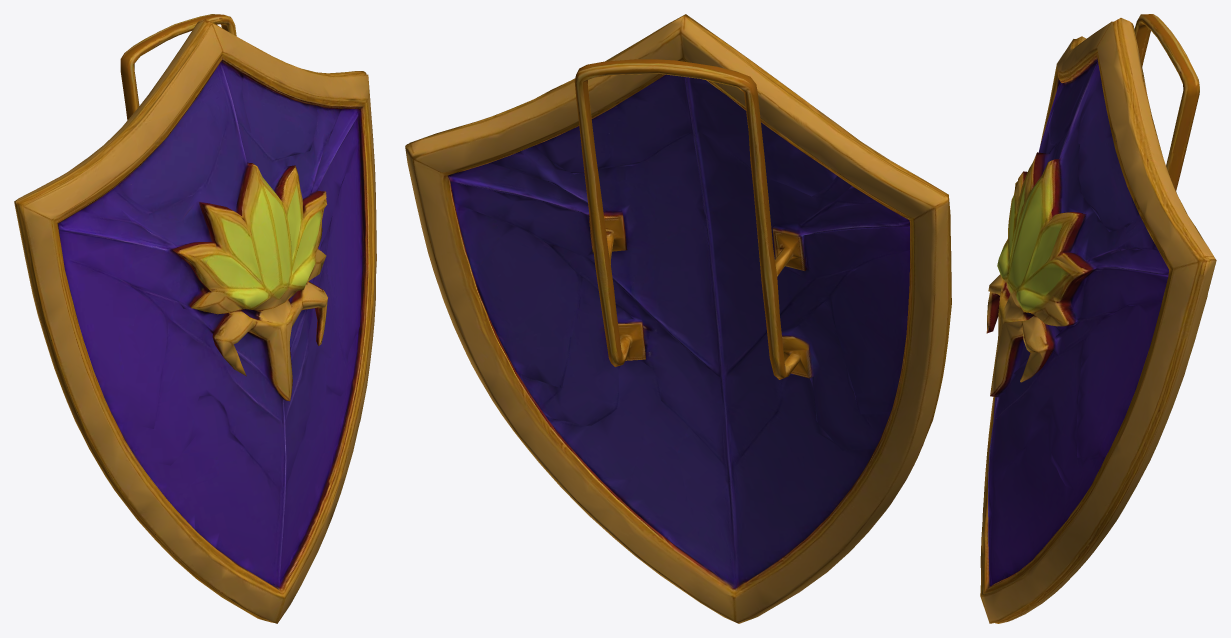
File: mahal_shield.glb
3 views of the same model, side by side, from view 1: azimuth 30°, elevation 25°; view 2: azimuth 150°, elevation 25°; view 3: azimuth 270°, elevation 25° (orthographic). The views are drawn at different scales.
Parts seen in each view (by area): view 1: tripo_node_849aff06-05fb-4d03-9a3a-fdebfb07fc83; view 2: tripo_node_849aff06-05fb-4d03-9a3a-fdebfb07fc83; view 3: tripo_node_849aff06-05fb-4d03-9a3a-fdebfb07fc83.
Boxes of the visible parts, <box> form: tripo_node_849aff06-05fb-4d03-9a3a-fdebfb07fc83: <box>14,14,376,623</box>; tripo_node_849aff06-05fb-4d03-9a3a-fdebfb07fc83: <box>405,14,951,623</box>; tripo_node_849aff06-05fb-4d03-9a3a-fdebfb07fc83: <box>980,14,1216,623</box>.
Bounding box in the file's own units: 0.7565 × 1 × 0.3557.
1 material, 1 textured.
